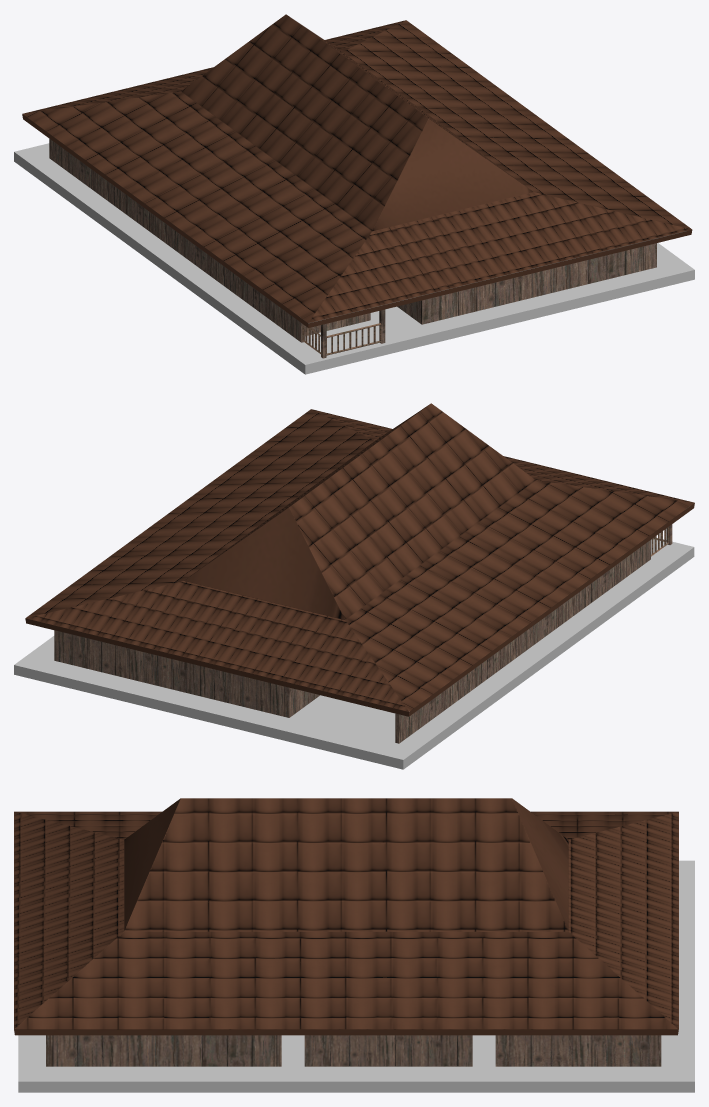
File: Asset Main Building_V2.fbx_main_house_1.fbx
3 renders of one model, top to bottom at view 1: azimuth 30°, elevation 25°; view 2: azimuth 150°, elevation 25°; view 3: azimuth 270°, elevation 25°, orthographic. The views are drawn at different scales.
Visible parts, largest first — view 1: main roof_1, floor_1, wall_1, pagar 2; view 2: main roof_1, floor_1, wall_1; view 3: main roof_1, floor_1, wall_1.
Boxes of the visible parts, x1,y1,x2,y2 form: main roof_1: (22,14,692,327); floor_1: (14,143,694,374); wall_1: (49,139,656,358); pagar 2: (326,323,381,355); main roof_1: (25,403,694,716); floor_1: (14,538,694,769); wall_1: (54,524,672,743); main roof_1: (14,798,678,1035); floor_1: (18,860,694,1092); wall_1: (46,1035,661,1066).
Size of the model in its own units: 20790 by 8037 by 27072.
